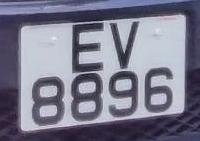6: (140, 64, 177, 116)
8: (24, 72, 70, 128), (67, 70, 109, 124)
9: (101, 66, 145, 121)
E: (66, 20, 110, 74)
V: (105, 17, 147, 72)
